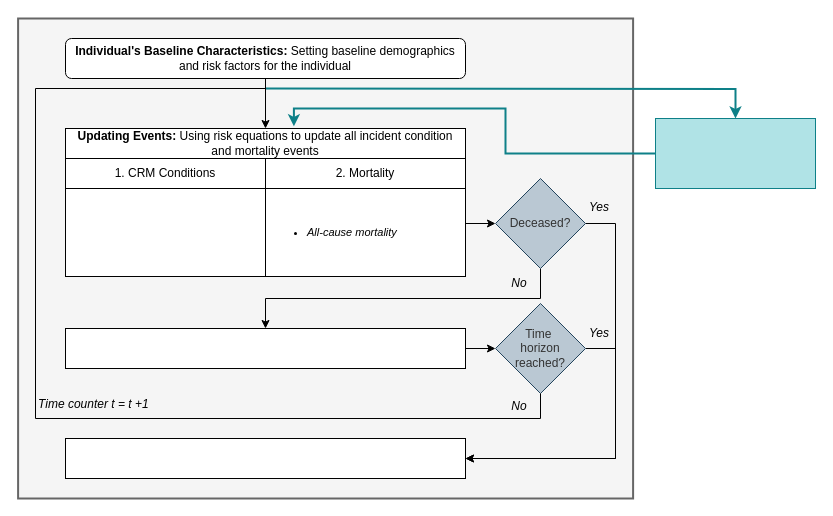
Image size: 833x516. Some labels were removed from this diagram. Here are the shapes that lost their labels. From the top down, the centre of each, then its label:
At point 735,153: "Intervention Scenarios: Evaluate eligibility and apply treatment effects".
At point 165,232: "CKD & ESKD CVD & Stroke Obesity T2D".
At point 265,348: "Updating Characteristics: Updating comorbidities and risk factors".
At point 265,458: "Terminating: Terminating updates and summarizing statistics for the individual".
